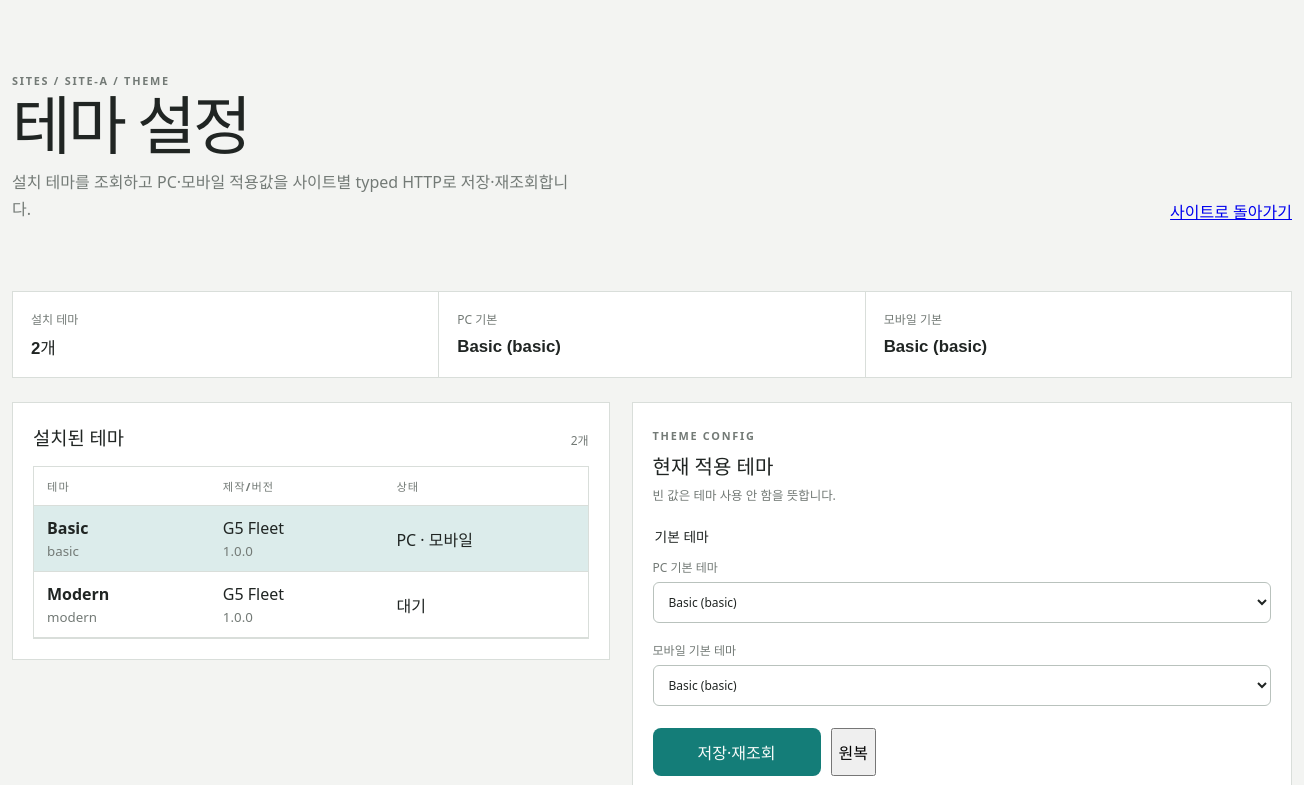
AdminThemePage › saves changed config and verifies config, list and detail readback
Select "Modern (modern)" in the dropdown labelled "PC 기본 테마" at coordinates (962, 603), box [652,582,1271,623]
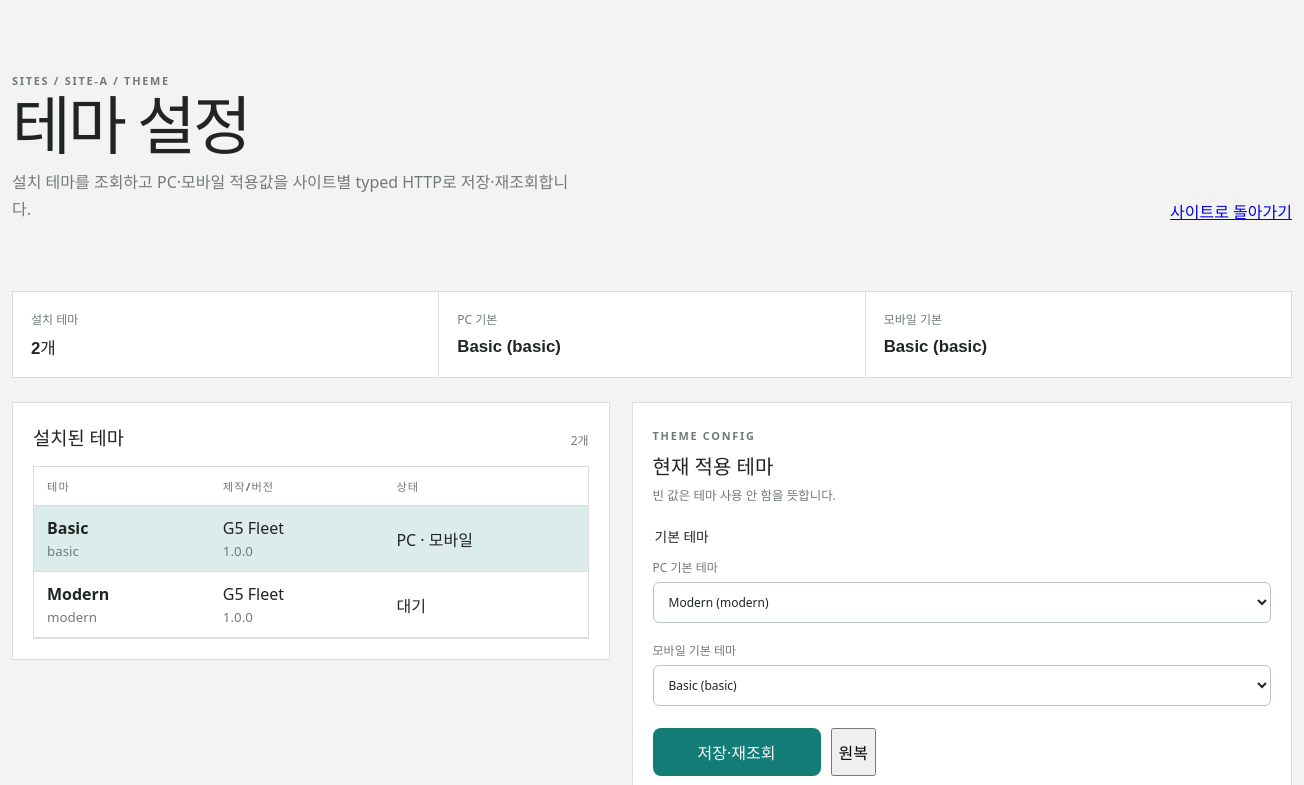
Click the button "저장·재조회" at coordinates (736, 752), box [652,728,820,776]
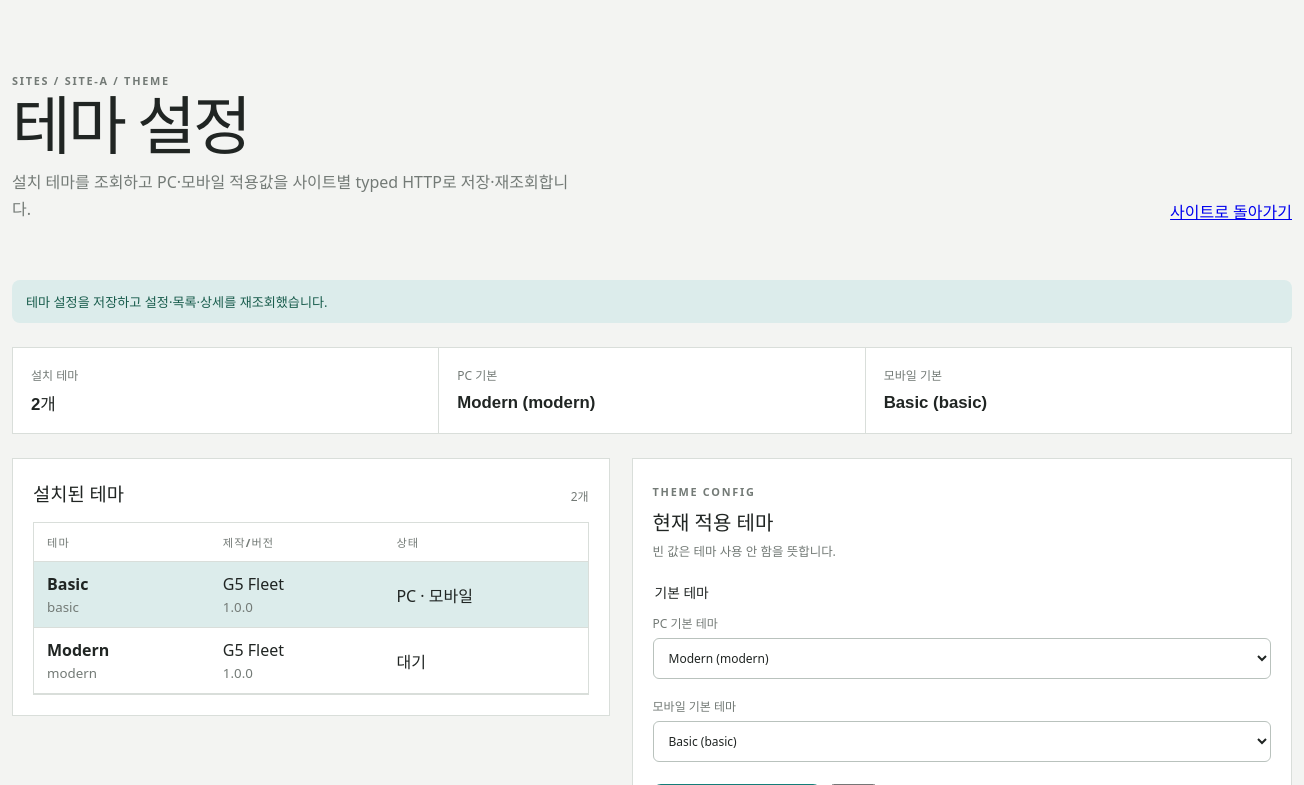
Check: the text "테마 설정을 저장하고 설정·목록·상세를 재조회했습니다." is shown, box [12,280,1292,323]
